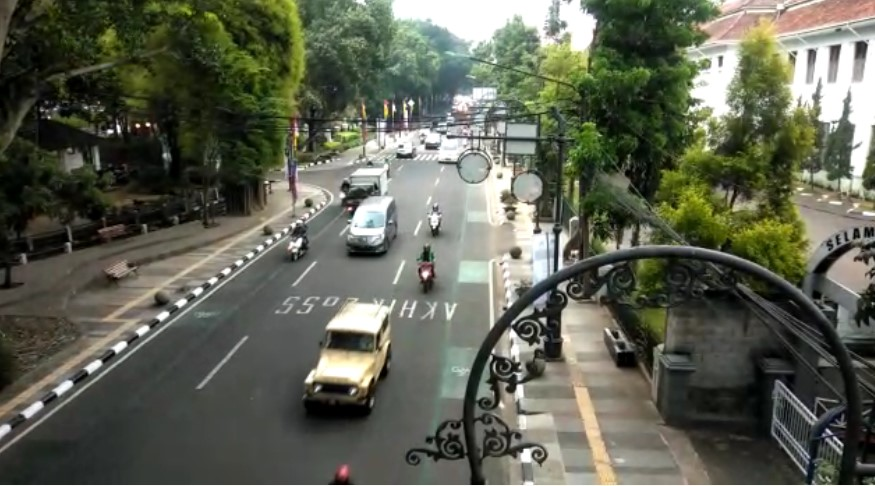mobil: (300, 303, 395, 413), (341, 195, 400, 260)
motor: (413, 244, 441, 293), (284, 218, 310, 264), (424, 204, 448, 236)
